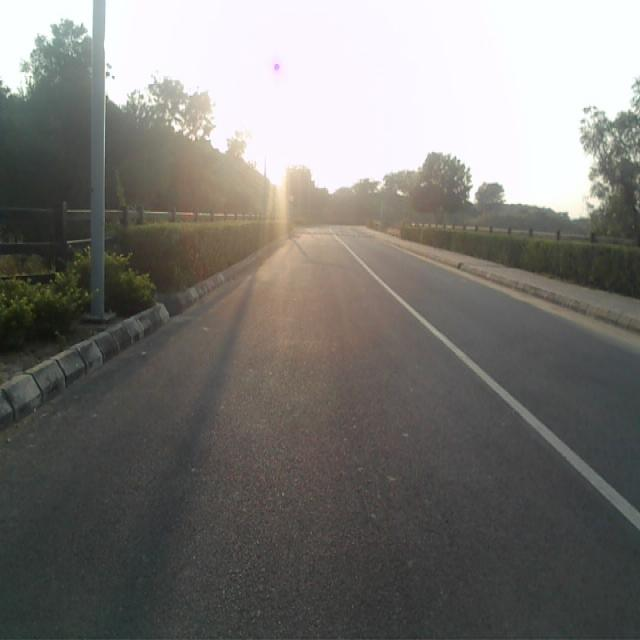lane: (0, 227, 640, 640)
